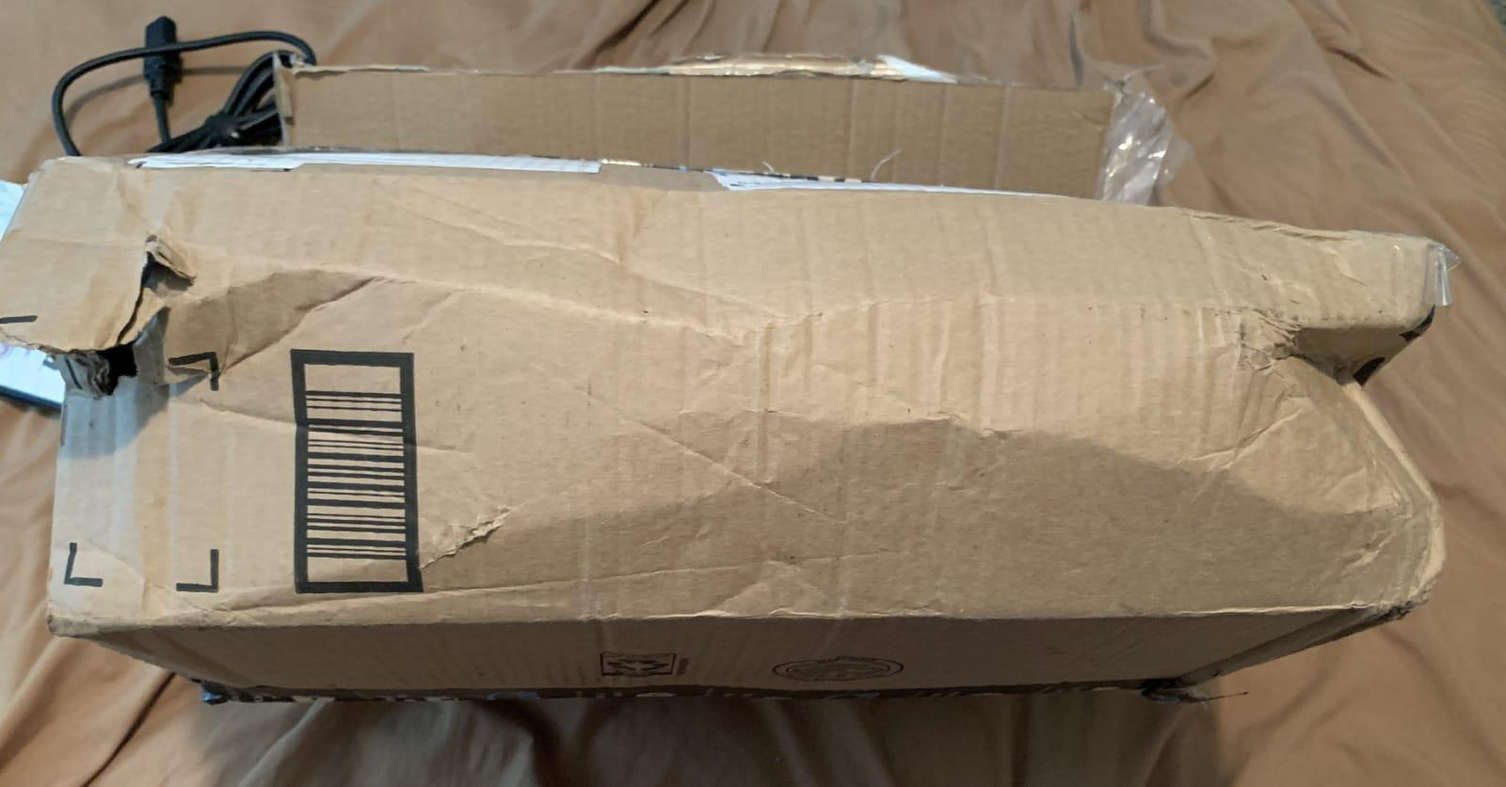damaged package: (25, 243, 196, 414)
undamaged: (0, 137, 1469, 719)
